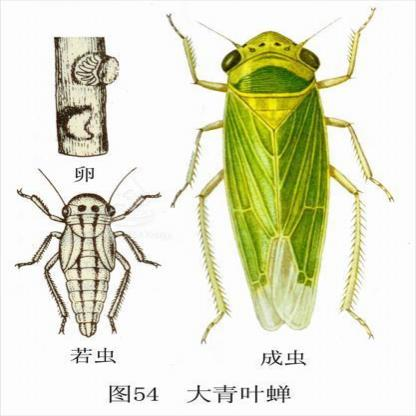Green-Leafhopper: (163, 11, 406, 349), (8, 165, 165, 344)
